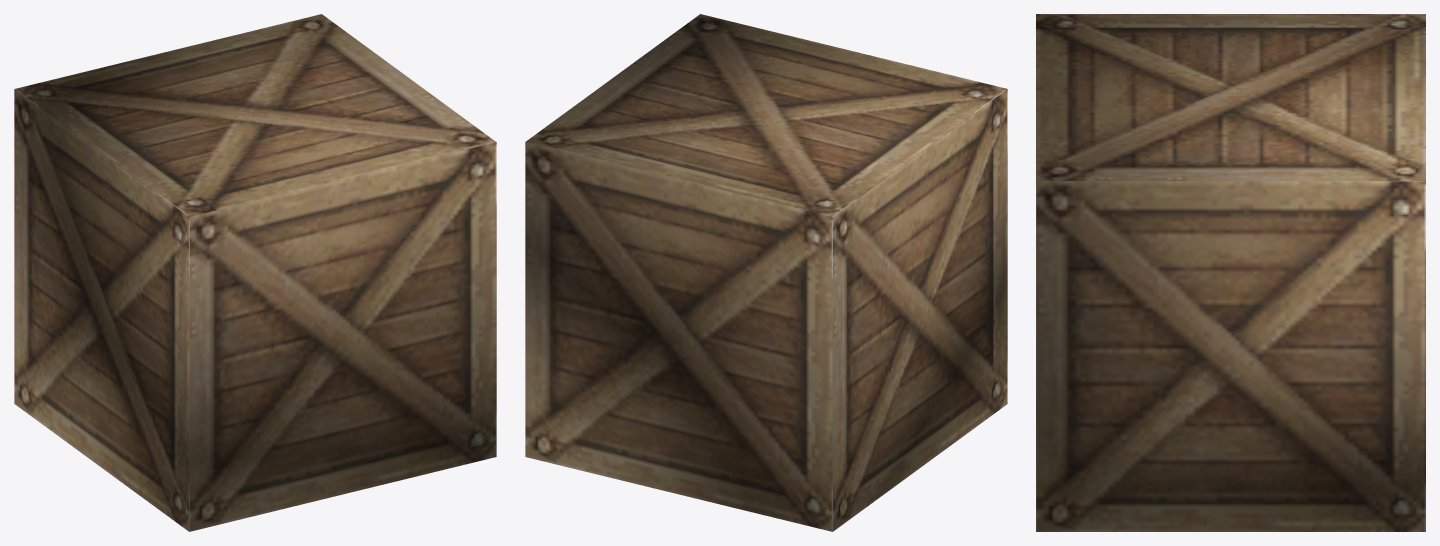
Rendered from wreck_crate.glb.
3 renders of one model, left to right at view 1: azimuth 30°, elevation 25°; view 2: azimuth 150°, elevation 25°; view 3: azimuth 270°, elevation 25°, orthographic. The views are drawn at different scales.
Parts seen in each view (by area): view 1: euro_esteuro_box; view 2: euro_esteuro_box; view 3: euro_esteuro_box.
Boxes of the visible parts, <box> form: euro_esteuro_box: <box>14,14,496,531</box>; euro_esteuro_box: <box>525,14,1007,531</box>; euro_esteuro_box: <box>1036,14,1425,531</box>.
Size of the model in its own units: 0.9923 by 0.9709 by 0.9779.
1 material, 1 textured.
